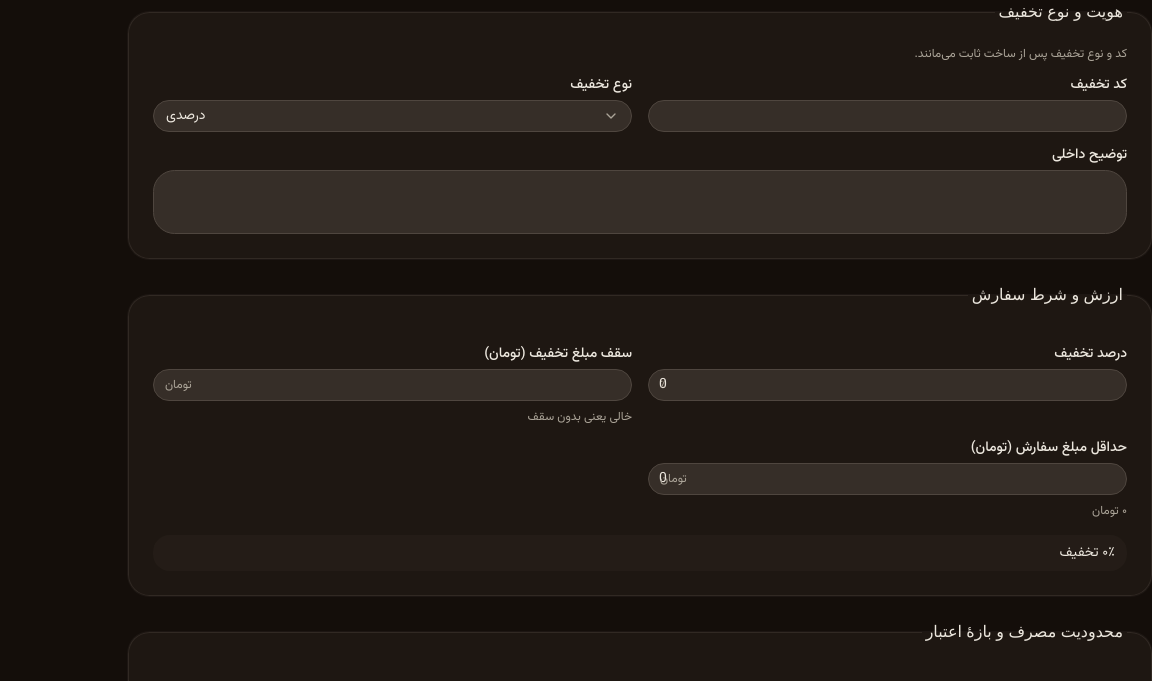
it: CouponForm › focuses invalid discount values and blocks submission
The image size is (1152, 681).
Type "TOO-MUCH" into the field labelled "کد تخفیف" at {"x": 888, "y": 116}, box [648,100,1127,132]
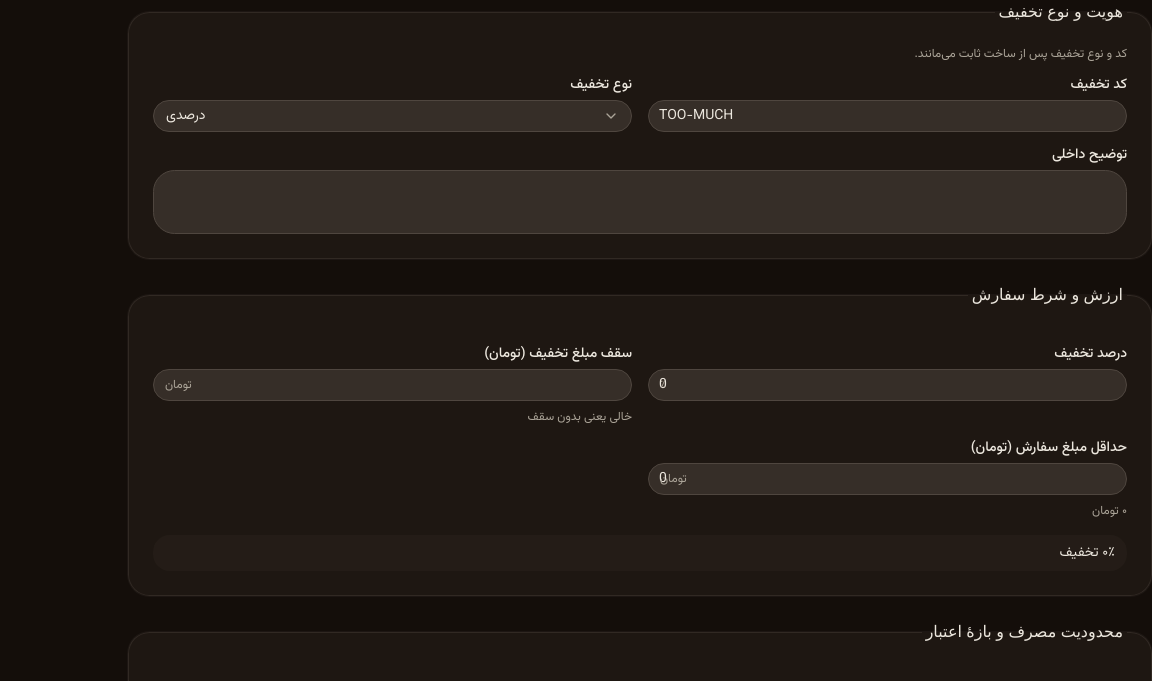
Replace the text in the number field labelled "درصد تخفیف" with "101" at {"x": 888, "y": 385}, box [648,369,1127,401]
(page scrolled)
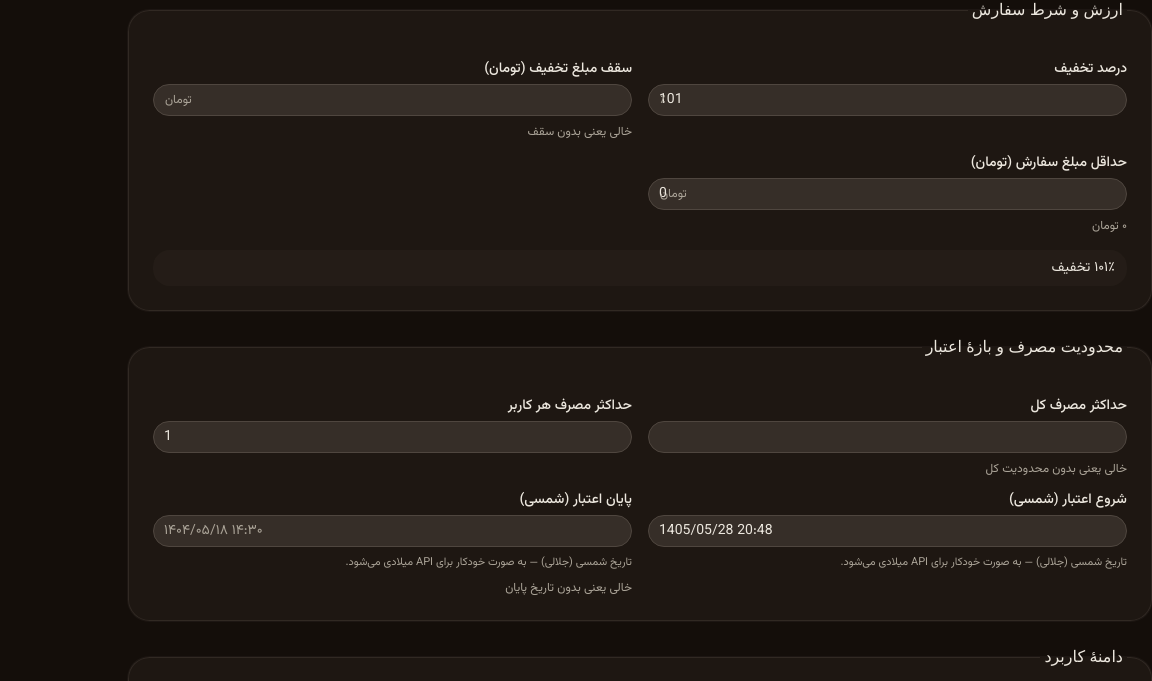
Submit the form
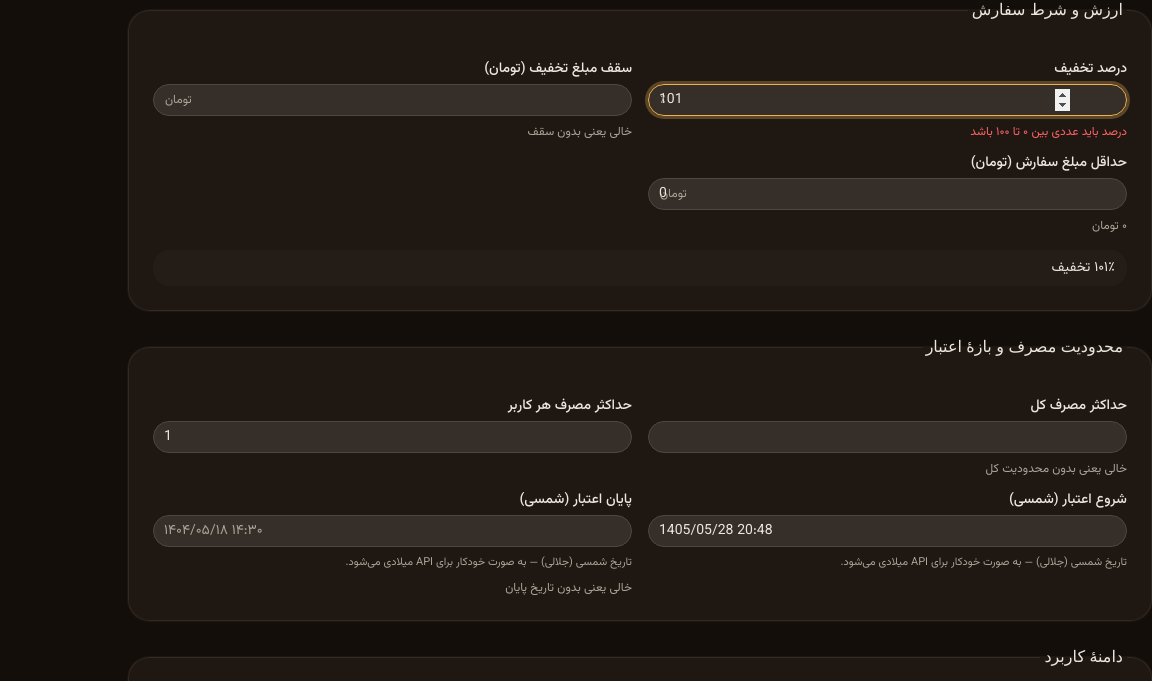
Check: the text "درصد باید عددی بین ۰ تا ۱۰۰ باشد" is shown, box [970,123,1127,141]
